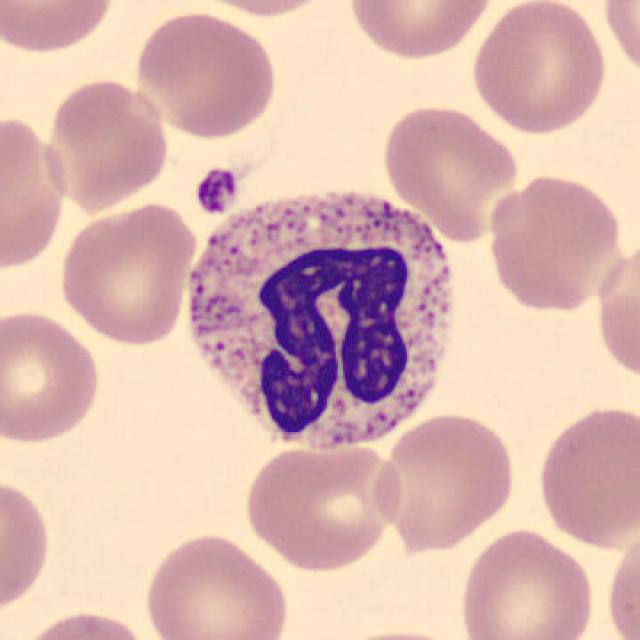Neutrophil: (169, 174, 475, 470)
Platelets: (192, 164, 242, 217)
RBC: (240, 439, 405, 573), (370, 409, 519, 554), (55, 200, 199, 348), (484, 167, 624, 314), (378, 100, 522, 242), (130, 7, 281, 141), (468, 0, 610, 136), (42, 76, 172, 213), (138, 529, 292, 640), (455, 525, 599, 640), (532, 399, 638, 550), (0, 307, 103, 448), (0, 109, 71, 275), (344, 0, 499, 63), (0, 472, 55, 619), (590, 231, 640, 388), (0, 0, 121, 56), (12, 606, 158, 640), (602, 518, 640, 639), (597, 0, 640, 85), (186, 0, 339, 19), (327, 624, 471, 640)
